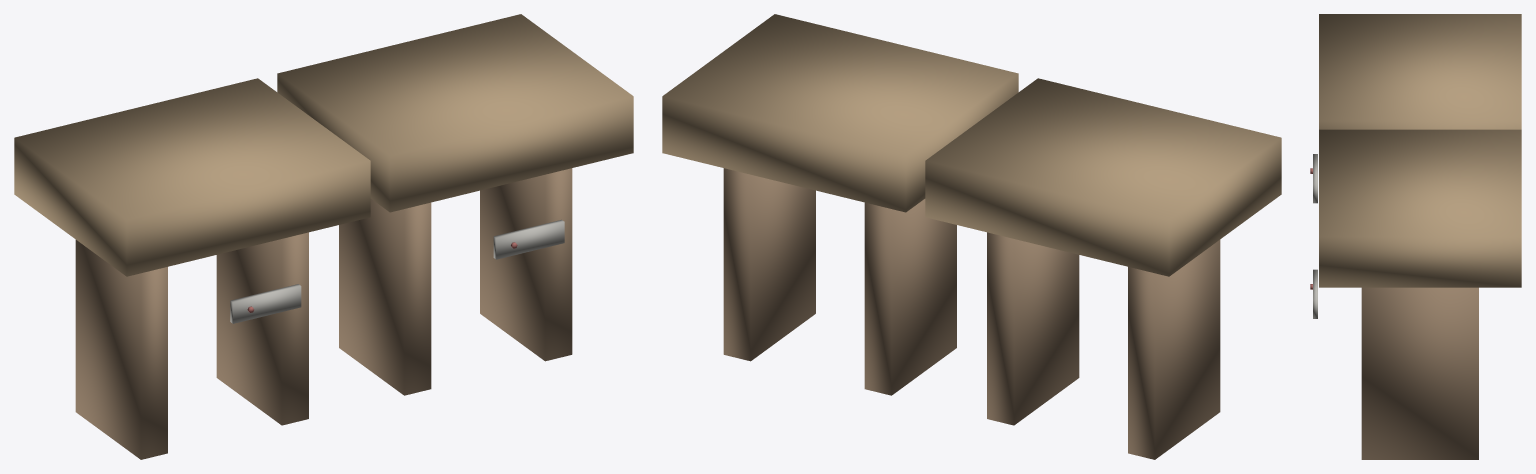
File: butcher_block__cluster.glb
3 renders of one model, left to right at view 1: azimuth 30°, elevation 25°; view 2: azimuth 150°, elevation 25°; view 3: azimuth 270°, elevation 25°, orthographic. The views are drawn at different scales.
Visible parts, largest first — view 1: world; view 2: world; view 3: world.
Part boxes in pixels (x1,y1,x2,y2): world: (14,14,633,459); world: (662,14,1281,459); world: (1310,14,1521,459).
Size of the model in its own units: 1.87 by 0.94 by 0.751.
